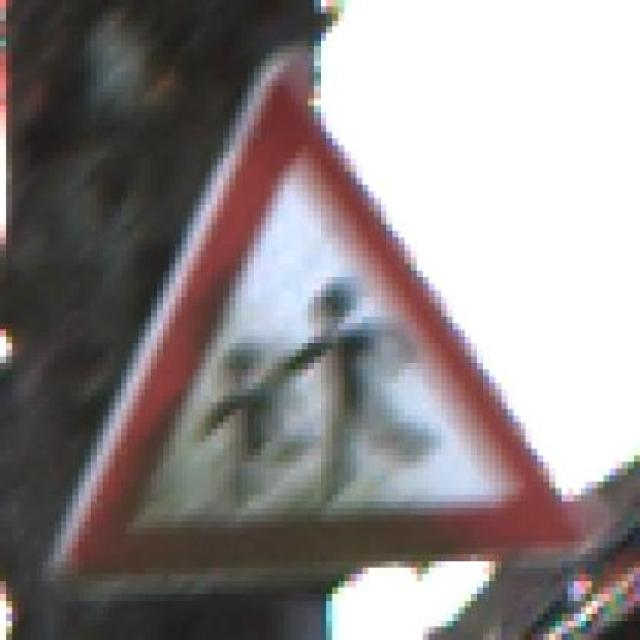Beware of children: (42, 39, 580, 581)
